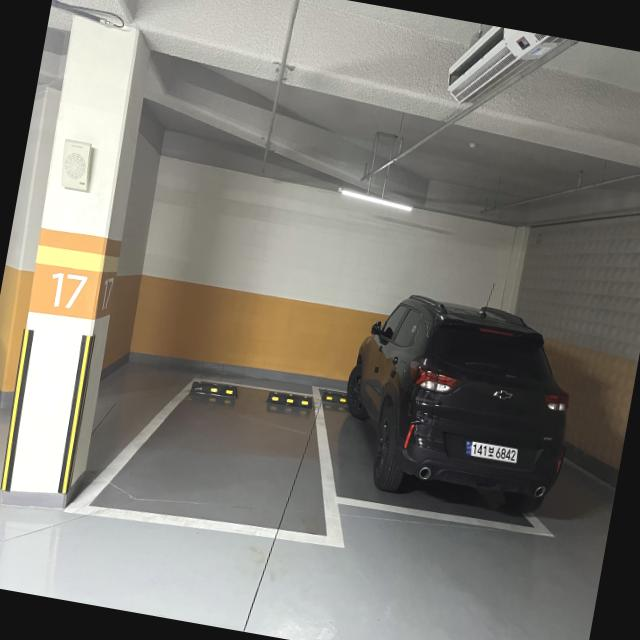car: (318, 264, 608, 556)
free: (60, 374, 347, 557)
